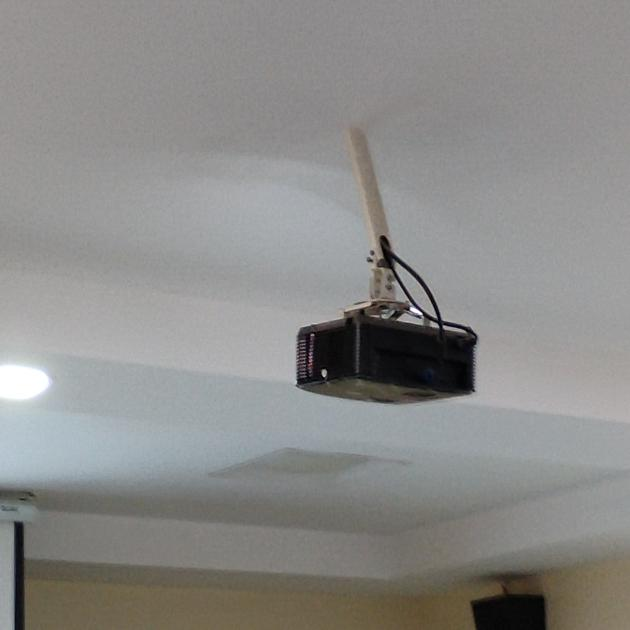projector: (269, 152, 530, 458)
